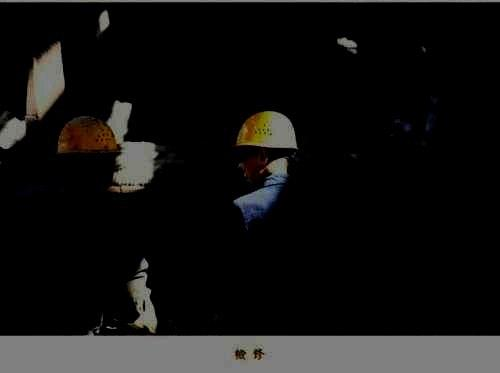helmet: (56, 116, 122, 190), (233, 110, 298, 178)
